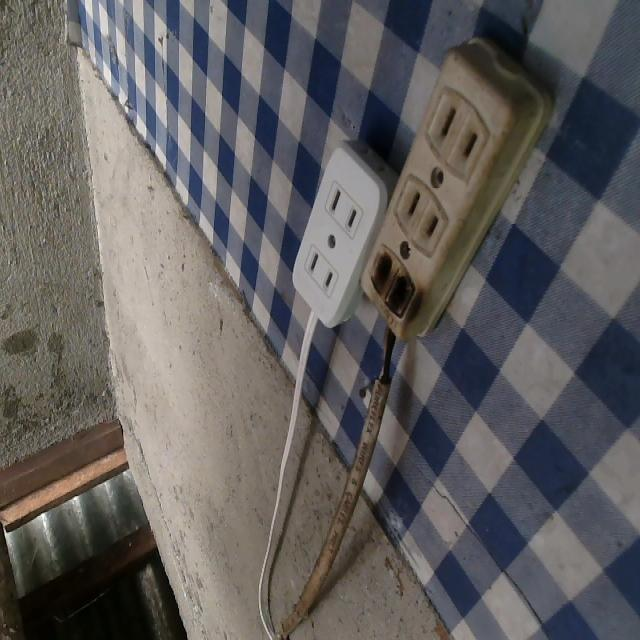-: (359, 240, 426, 337)
